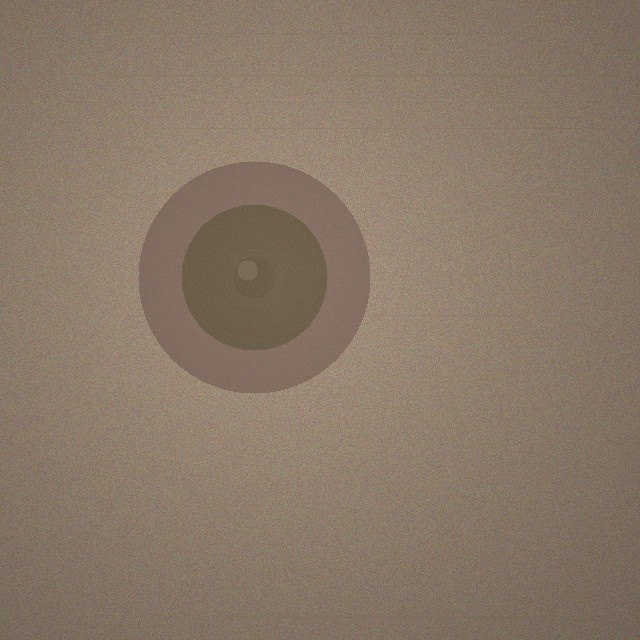good: (138, 161, 370, 393)
